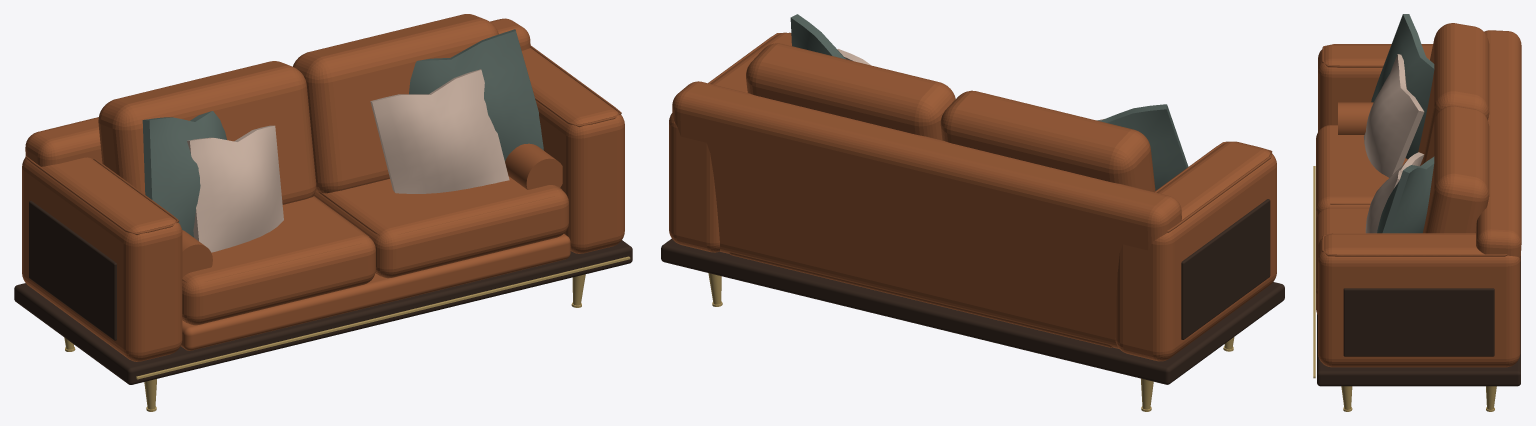
Rendered from milano-cognac-compact-2.glb.
3 renders of one model, left to right at view 1: azimuth 30°, elevation 25°; view 2: azimuth 150°, elevation 25°; view 3: azimuth 270°, elevation 25°, orthographic. The views are drawn at different scales.
Size of the model in its own units: 1.7 by 0.8344 by 0.6932.
